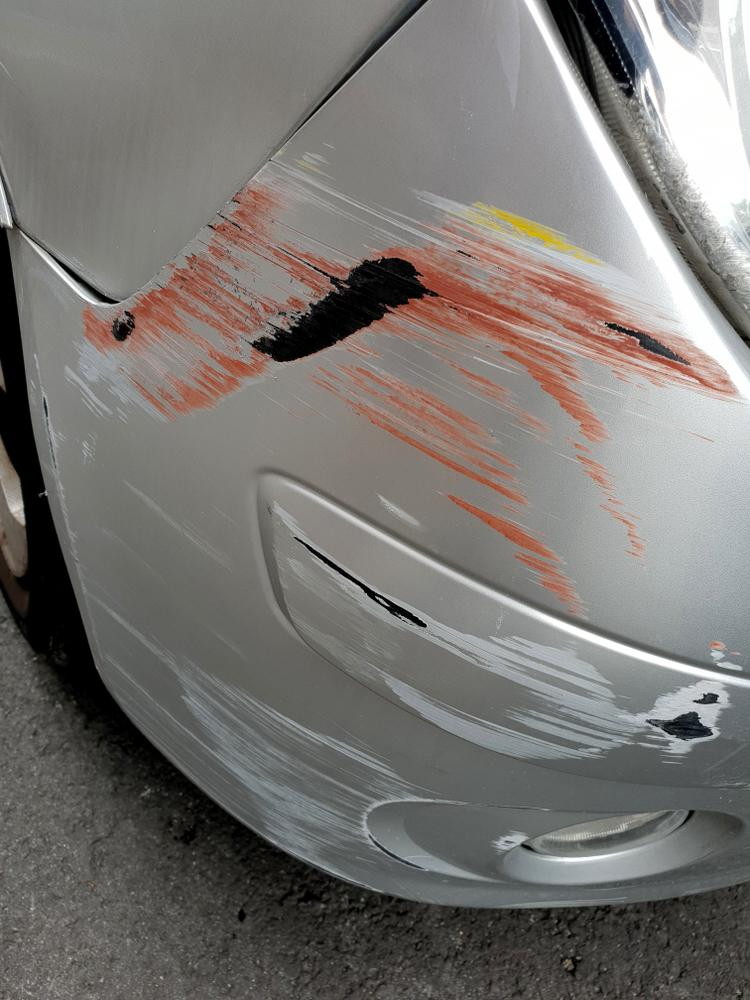scratch: (30, 136, 750, 899)
